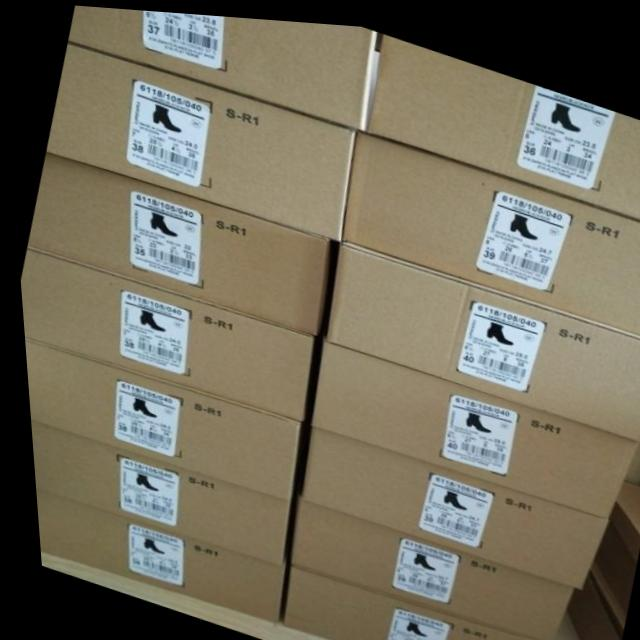box: (321, 236, 640, 431), (338, 125, 640, 328), (44, 40, 350, 238), (304, 335, 635, 511), (22, 152, 331, 333), (365, 28, 640, 210), (17, 249, 310, 415), (296, 422, 602, 578), (20, 338, 293, 495), (281, 491, 563, 637), (67, 4, 374, 128), (25, 421, 278, 562), (28, 489, 274, 619), (274, 561, 542, 640), (583, 470, 640, 606), (557, 561, 615, 640)
